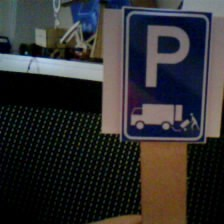load: (124, 11, 209, 144)
